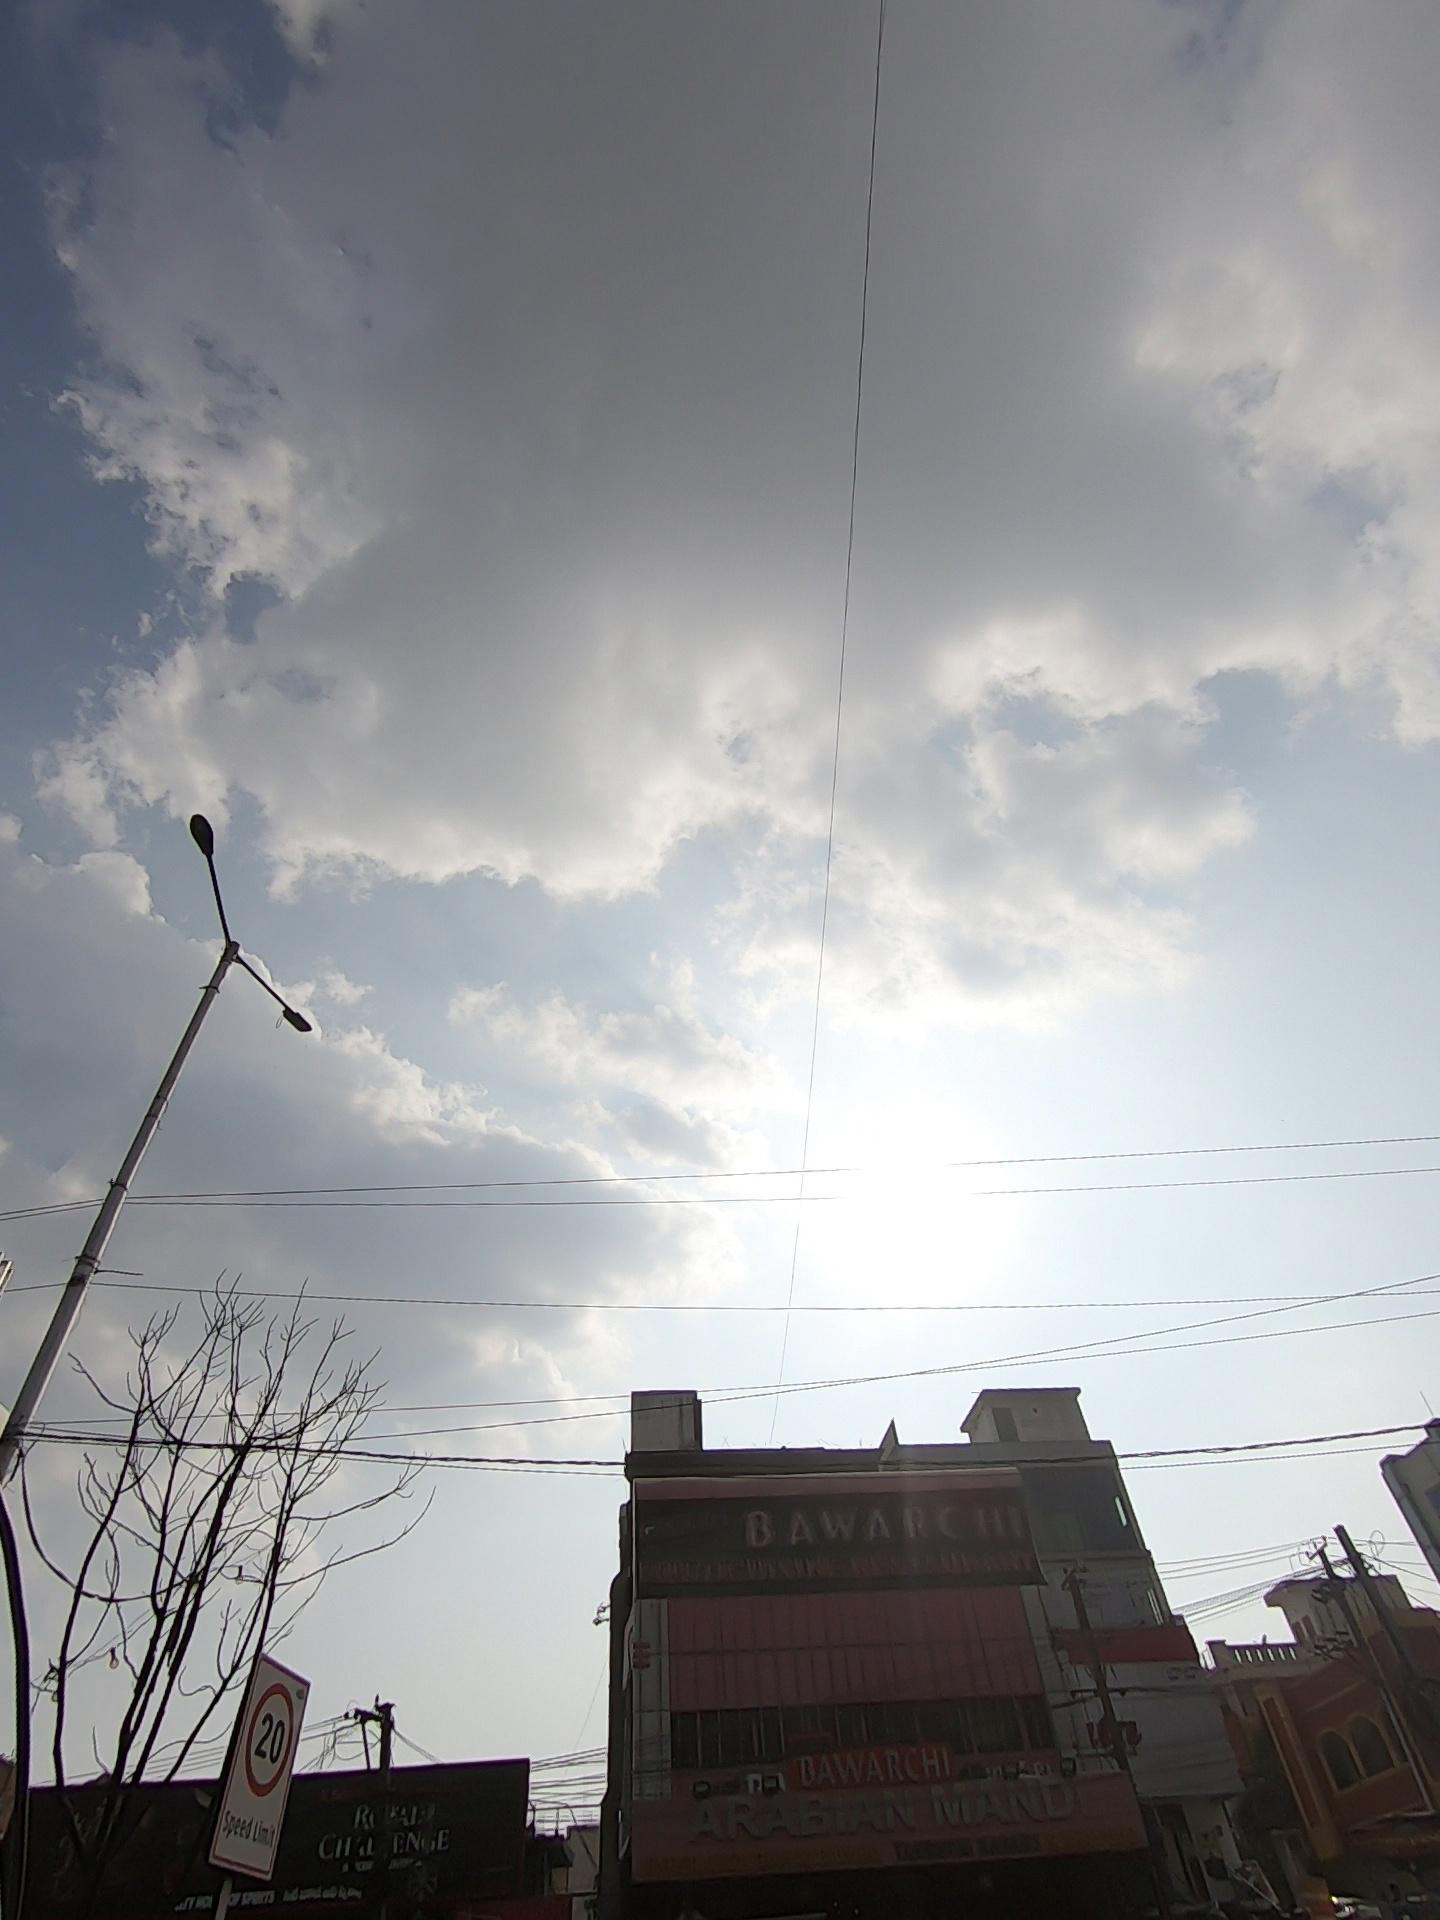off: (100, 745, 372, 1176)
